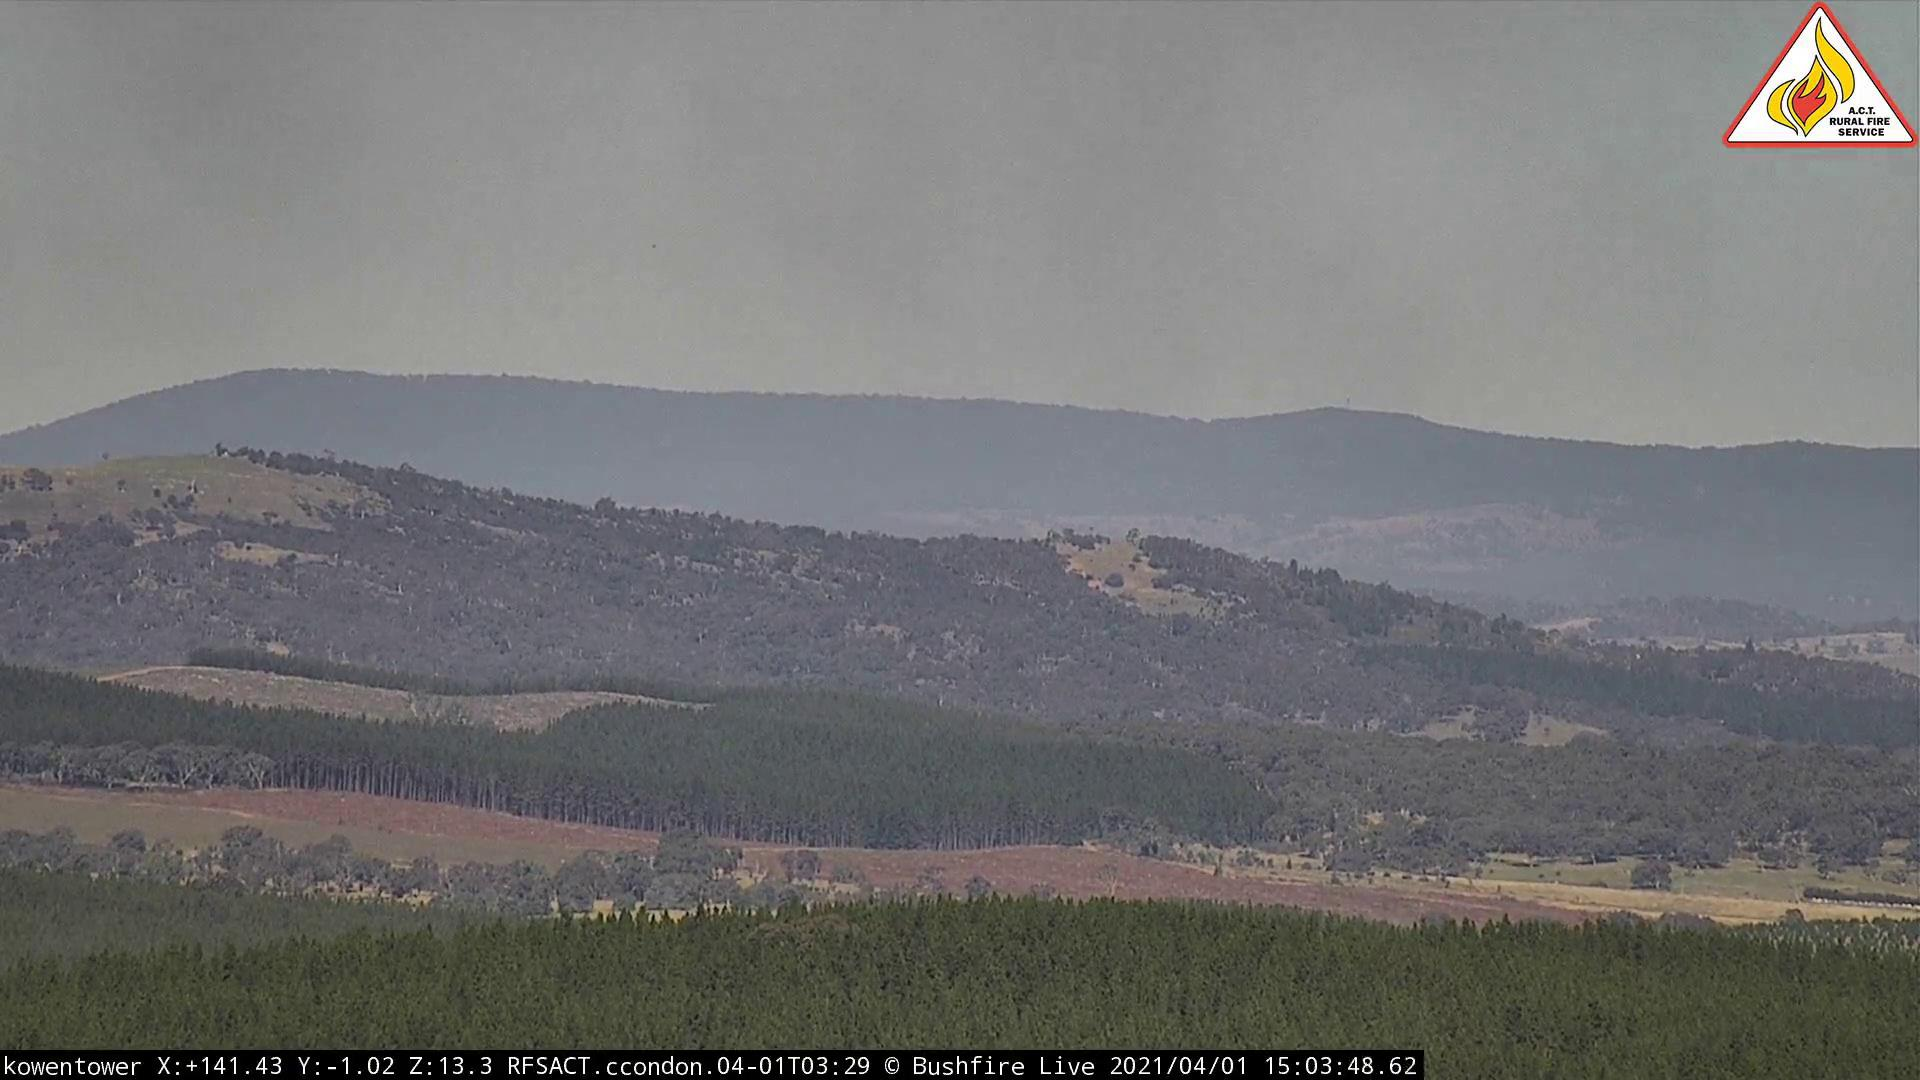Smoke: (3, 3, 1592, 454)
